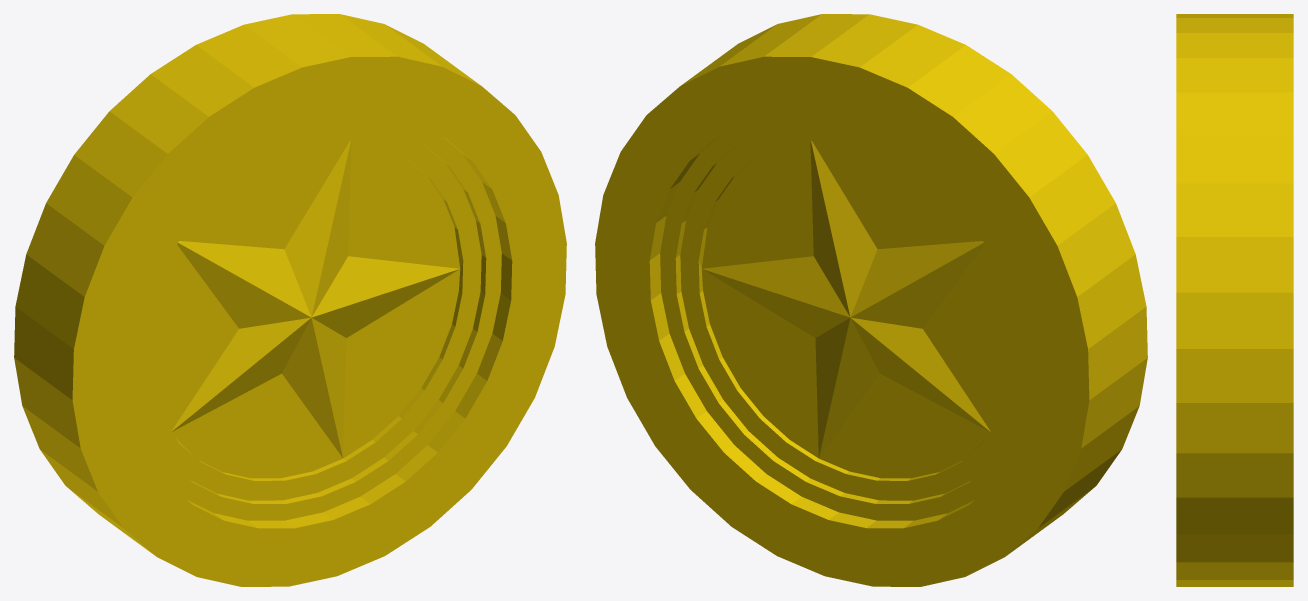
The model's file is YellowCoin.fbx.
The picture shows the model from 3 angles, left to right: view 1: azimuth 30°, elevation 25°; view 2: azimuth 150°, elevation 25°; view 3: azimuth 270°, elevation 25°; orthographic projection.
Visible parts, largest first — view 1: Coin; view 2: Coin; view 3: Coin.
Part boxes in pixels (x1,y1,x2,y2): Coin: [14, 14, 566, 586]; Coin: [595, 14, 1147, 586]; Coin: [1176, 14, 1293, 586].
Size of what is drawn, in the model's own units: 99.74 by 99.74 by 20.43.
